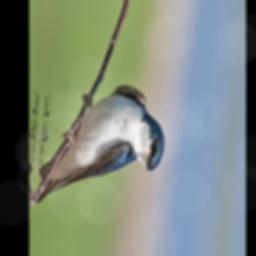Swallow: (34, 66, 170, 232)
